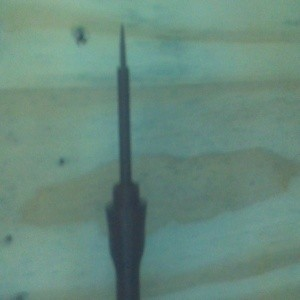solder: (105, 23, 148, 300)
